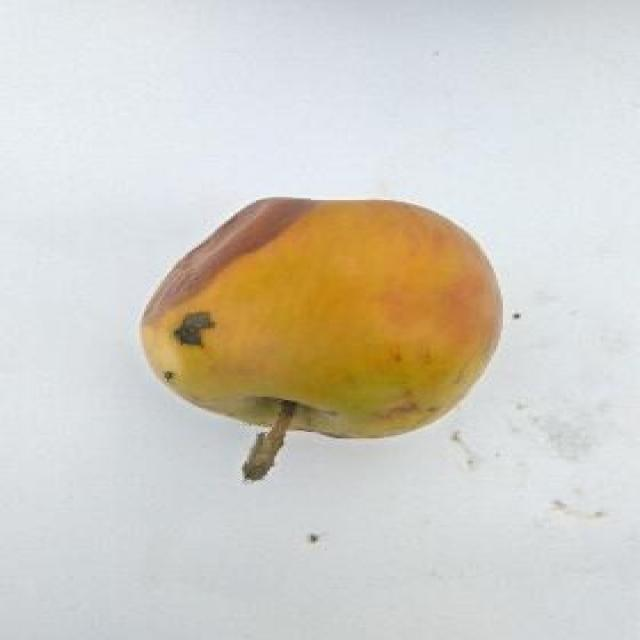Rotten: (138, 189, 503, 441)
